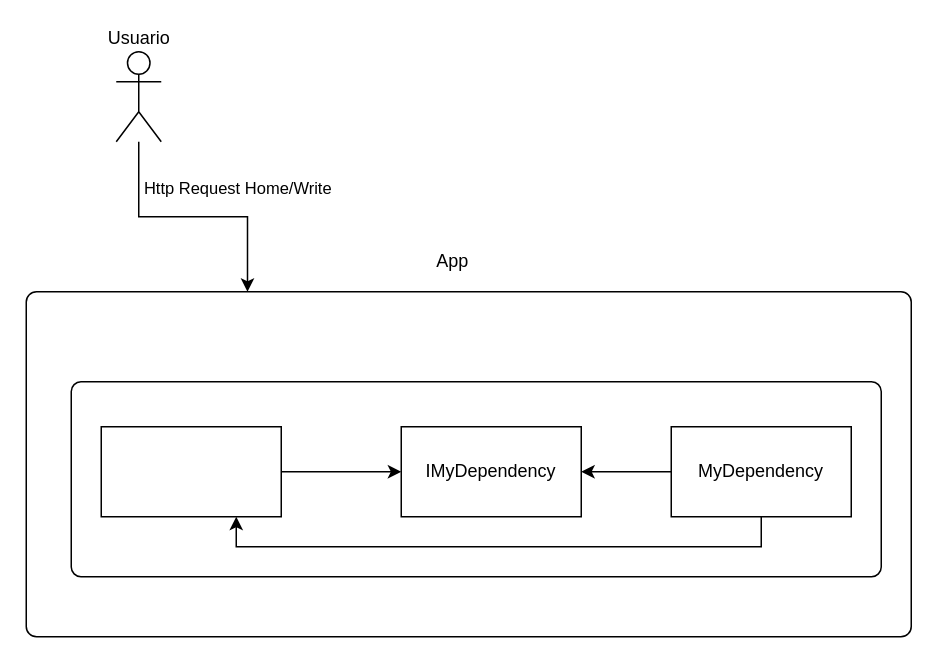
Some shapes in this 938 by 663 pixel diagram are drawn without their labels. Each missing label, with the box of its shape:
Contenedor de Dependencias: (70, 380, 881, 577)
HomeController: (100, 425, 281, 517)
